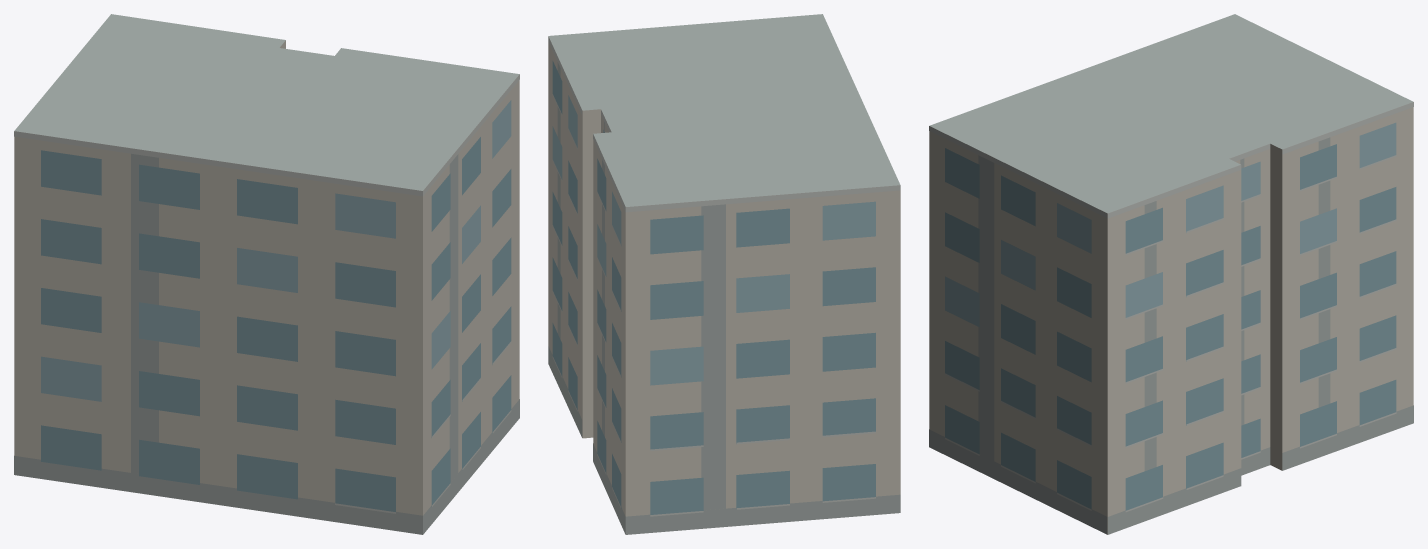
Rendered from survey-upis-32924970.glb.
3 views of the same model, side by side, from view 1: azimuth 30°, elevation 25°; view 2: azimuth 150°, elevation 25°; view 3: azimuth 270°, elevation 25° (orthographic). The views are drawn at different scales.
Visible parts, largest first — view 1: survey-upis-32924970.tmp; view 2: survey-upis-32924970.tmp; view 3: survey-upis-32924970.tmp.
Part boxes in pixels (box(x1,y1,x2,y2)): survey-upis-32924970.tmp: box(14, 14, 519, 534); survey-upis-32924970.tmp: box(548, 14, 900, 534); survey-upis-32924970.tmp: box(929, 14, 1413, 534).
Size of the model in its own units: 20.31 by 15.25 by 20.85.
